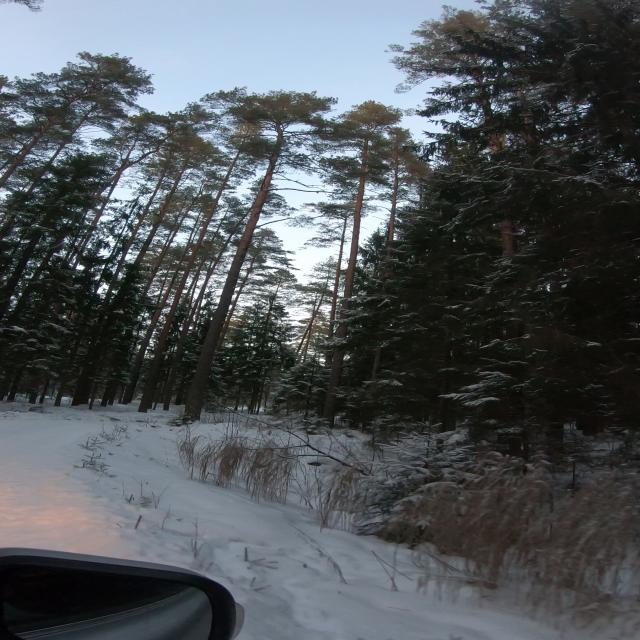trees: (186, 125, 284, 419), (138, 150, 239, 412), (104, 168, 166, 304), (133, 148, 193, 266), (0, 116, 62, 187), (342, 142, 368, 310), (385, 126, 419, 250), (79, 165, 128, 251), (329, 218, 347, 338), (323, 351, 343, 426), (372, 347, 381, 379), (336, 326, 345, 337)
